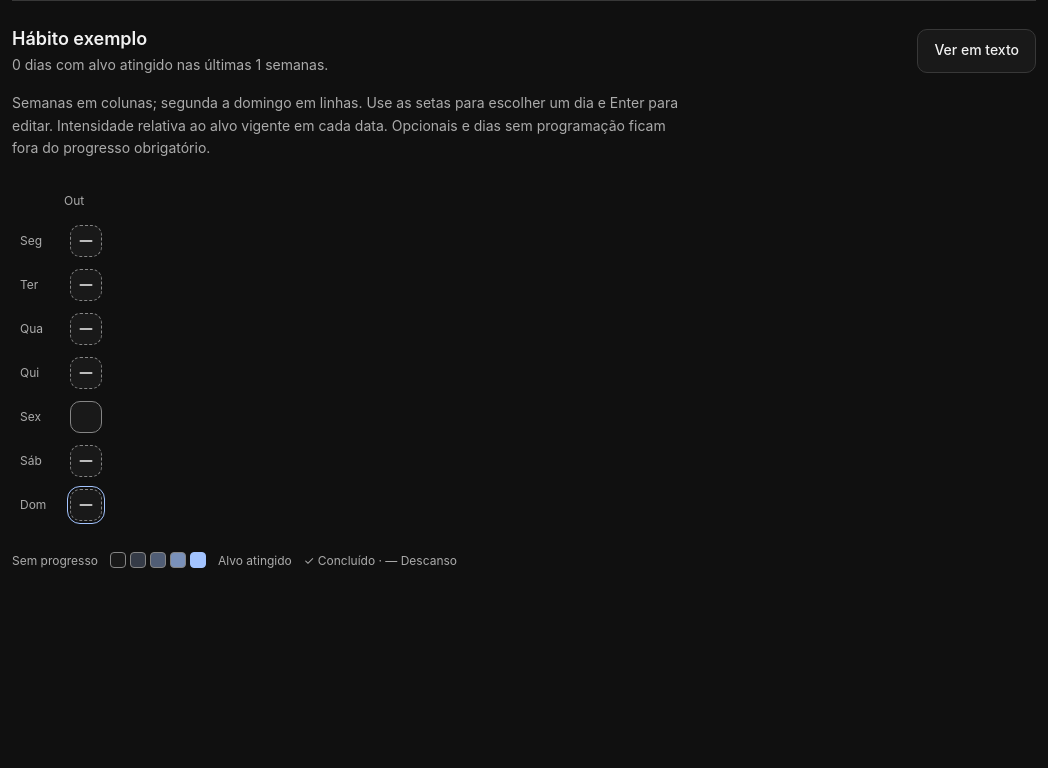
Test case: distingue sem programação, dia previsto vazio e versão do alvo na alternativa textual
Click the button "Ver em texto".
click(977, 51)  # box 917,29 -> 1036,73
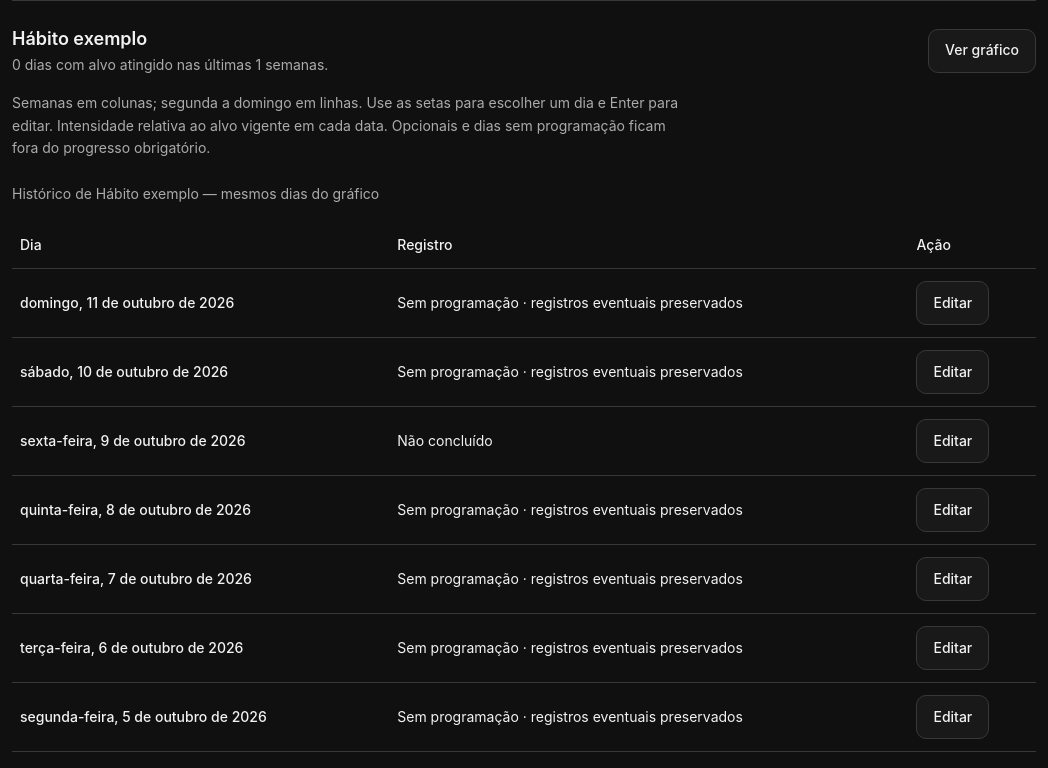
Expected: the text "alvo vigente em cada data" is shown, 12,117 -> 666,156
Now the text "Sem programação · registros eventuais preservados" is shown 6 times, box 389,269 -> 908,338; 389,338 -> 908,407; 389,476 -> 908,545; 389,545 -> 908,614; 389,614 -> 908,683; 389,683 -> 908,752
Now the text "Não concluído" is shown, box 389,407 -> 908,476
